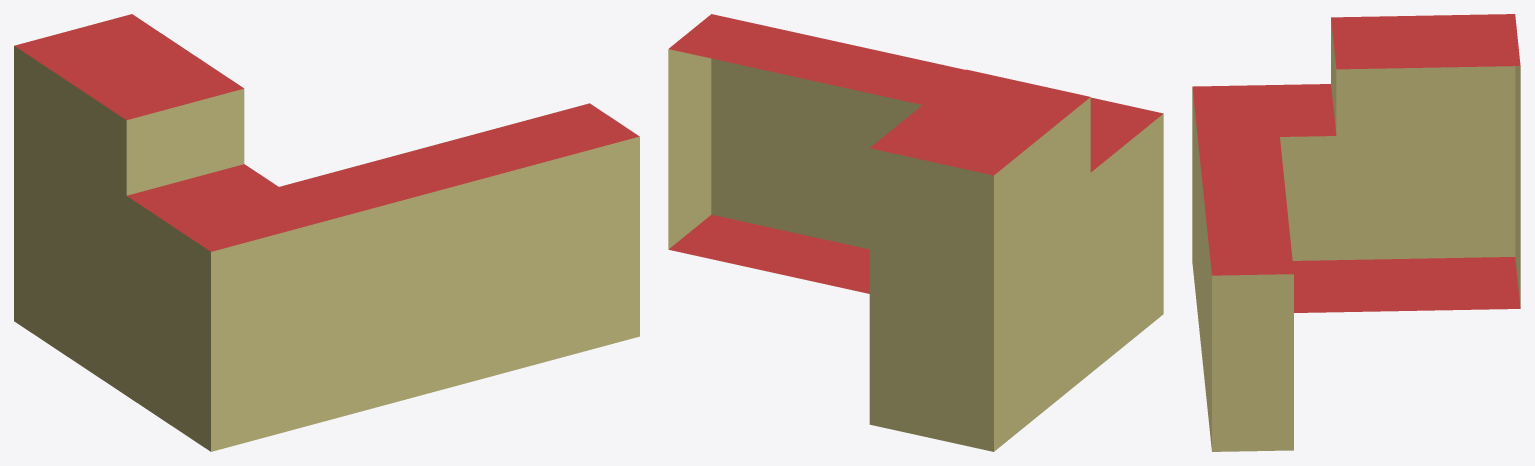
3 views of the same model, side by side, from view 1: azimuth 30°, elevation 25°; view 2: azimuth 150°, elevation 25°; view 3: azimuth 270°, elevation 25° (orthographic). The views are drawn at different scales.
Size of the model in its own units: 13.21 by 9.39 by 7.67.
